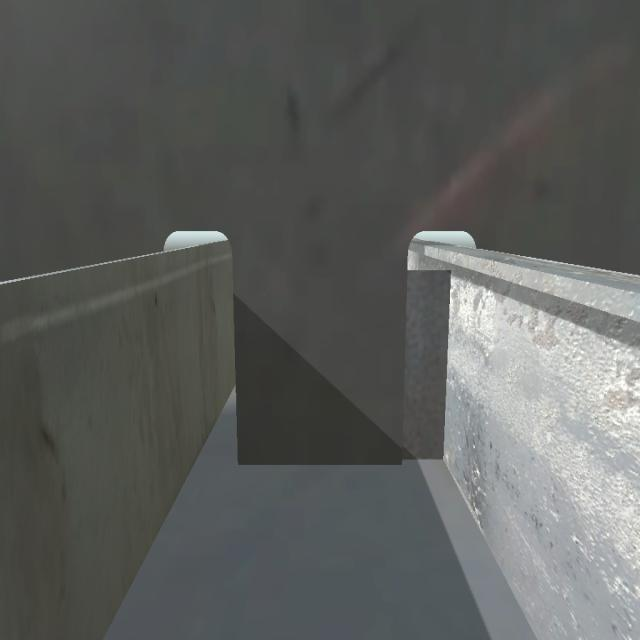fillet_yong_jeop_jang: (238, 452, 450, 471)
longi_yong_jeop_jang: (441, 266, 451, 460)
plate_behind: (402, 276, 447, 460)
